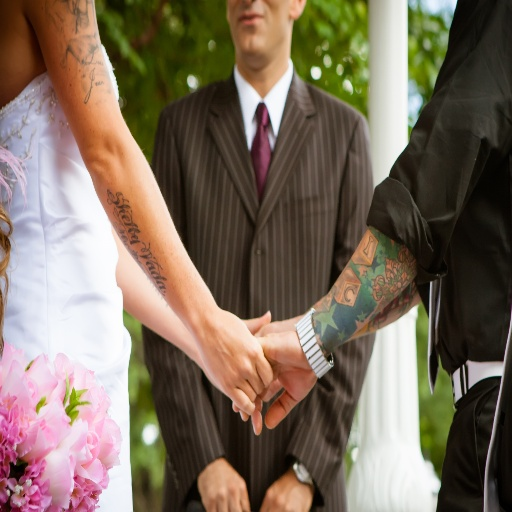hand: (231, 328, 317, 435), (198, 306, 271, 413), (197, 455, 249, 511), (252, 318, 284, 401), (259, 464, 313, 511), (202, 361, 220, 391)
